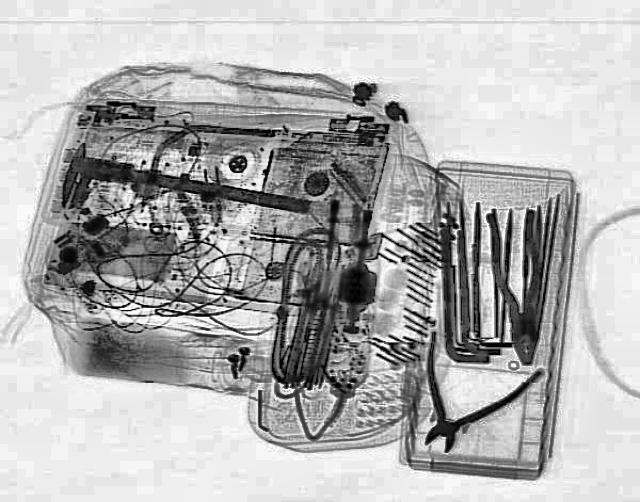Pliers: (377, 329, 548, 465), (484, 209, 554, 365)
